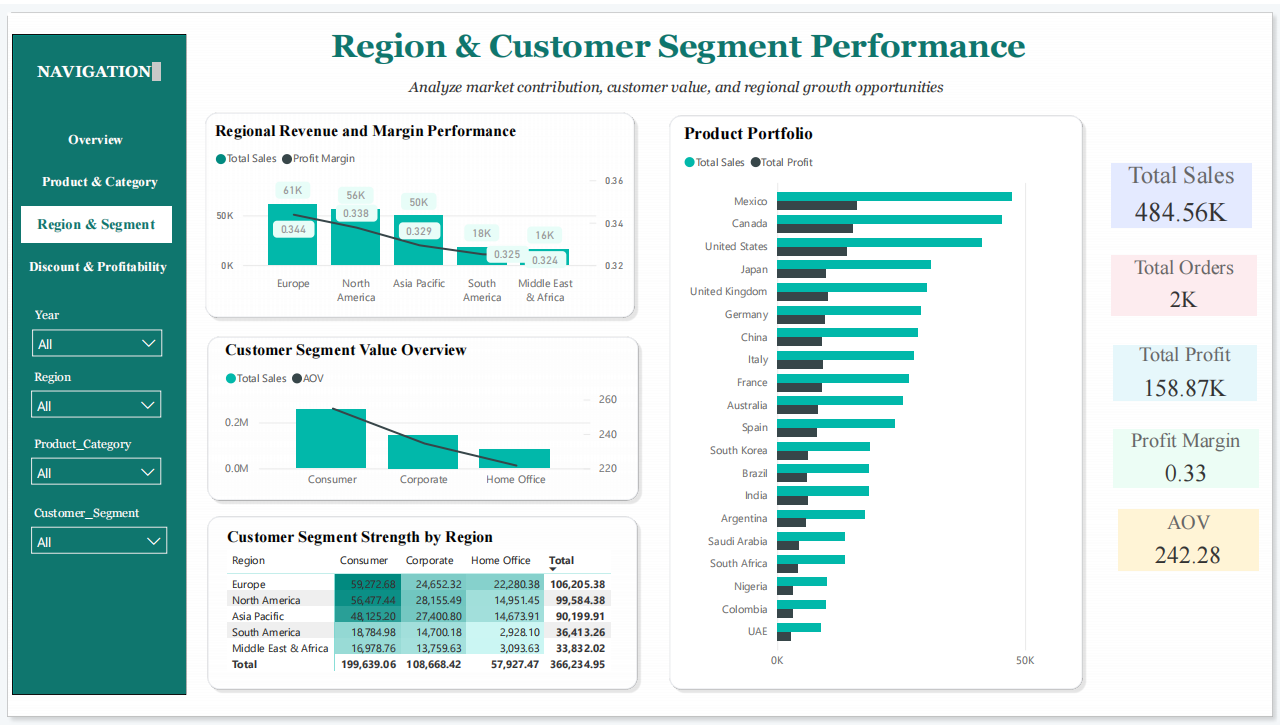

The page's visual inventory and layout, read from the dashboard file:
{"tool":"powerbi","page":{"name":"Region & Segment","canvas":[1280,720],"ordinal":2},"visuals":[{"type":"shape","box":[0,0,1280,720],"z":0},{"type":"shape","box":[13.3,30,173.3,660],"z":1000},{"type":"textbox","box":[32.5,52.5,133.8,28.8],"z":2000},{"type":"actionButton","box":[22.2,117.8,150,35.6],"z":3000},{"type":"actionButton","box":[24,163,154,29],"z":4000},{"type":"actionButton","box":[22.2,202.2,150,35.6],"z":5000},{"type":"actionButton","box":[20.8,245,155.8,35.8],"z":6000},{"type":"slicer","fields":{"Values":["Date Table.Year"]},"box":[23.3,298.9,150,57.8],"z":7000},{"type":"slicer","fields":{"Values":["Sales.Region"]},"box":[22.2,360,150,60],"z":8000},{"type":"slicer","fields":{"Values":["Sales.Product_Category"]},"box":[22.2,426.7,150,58.9],"z":9000},{"type":"slicer","fields":{"Values":["Sales.Customer_Segment"]},"box":[22.2,495.6,155.6,61.1],"z":10000},{"type":"textbox","box":[293.8,0,770,77.5],"z":11000},{"type":"textbox","box":[352,68,650,38],"z":12000},{"type":"cardVisual","fields":{"Data":["Date Table.Total Profit"]},"box":[1107.5,336.2,153.8,65],"z":13000},{"type":"cardVisual","fields":{"Data":["Date Table.Profit Margin"]},"box":[1107.5,420,155,67.5],"z":14000},{"type":"cardVisual","fields":{"Data":["Date Table.Total Orders"]},"box":[1106.2,246.2,155,70],"z":15000},{"type":"group","id":"g1","title":"Group 4","box":[203,327,440,173],"z":16000},{"type":"cardVisual","fields":{"Data":["Date Table.AOV"]},"box":[1112.5,500,150,71.2],"z":17000},{"type":"shape","box":[200,102.9,440,215.9],"z":18000,"group":"g3"},{"type":"shape","box":[663.8,106.2,424,584],"z":18000,"group":"g4"},{"type":"shape","box":[203,327,440.7,174.1],"z":18000,"group":"g1"},{"type":"group","id":"g2","title":"Group 1","box":[203,506,441,184],"z":18000},{"type":"group","id":"g3","title":"Group 3","box":[200,102.9,440,217.1],"z":19000},{"type":"shape","box":[203,506,440.4,184],"z":19000,"group":"g2"},{"type":"lineClusteredColumnComboChart","title":"Regional Revenue and Margin Performance","fields":{"Y":["Date Table.Total Sales"],"Category":["Sales.Region"],"Y2":["Date Table.Profit Margin"]},"box":[211,117.5,418,190.1],"z":20000,"group":"g3"},{"type":"clusteredBarChart","title":"Product Portfolio","fields":{"Category":["Sales.Country"],"Y":["Date Table.Total Sales","Date Table.Total Profit"]},"box":[678.8,120,408.8,552.5],"z":21000,"group":"g4"},{"type":"cardVisual","fields":{"Data":["Date Table.Total Sales"]},"box":[1106.2,153.8,150,73.8],"z":21000},{"type":"pivotTable","title":"Customer Segment Strength by Region","fields":{"Values":["Date Table.Total Sales"],"Rows":["Sales.Region"],"Columns":["Sales.Customer_Segment"]},"box":[222.9,523.2,415,154.4],"z":21000,"group":"g2"},{"type":"group","id":"g4","title":"Group 2","box":[663.8,106.2,424,584],"z":21001},{"type":"lineClusteredColumnComboChart","title":"Customer Segment Value Overview","fields":{"Category":["Sales.Customer_Segment"],"Y":["Date Table.Total Sales"],"Y2":["Date Table.AOV"]},"box":[220.6,336.5,402.7,155.2],"z":22001,"group":"g1"}]}

Visuals, with their boxes in screenshot pixels (x1, y1, x2, y2), scaled from the page's 1280x720 canvas onto the 1282x728 screenshot:
shape: detection(0, 0, 1281, 727)
shape: detection(13, 30, 187, 698)
textbox: detection(33, 53, 167, 82)
actionButton: detection(22, 119, 172, 155)
actionButton: detection(24, 165, 178, 194)
actionButton: detection(22, 204, 172, 240)
actionButton: detection(21, 248, 177, 284)
slicer - Date Table.Year: detection(23, 302, 174, 361)
slicer - Sales.Region: detection(22, 364, 172, 425)
slicer - Sales.Product_Category: detection(22, 431, 172, 491)
slicer - Sales.Customer_Segment: detection(22, 501, 178, 563)
textbox: detection(294, 0, 1065, 78)
textbox: detection(353, 69, 1004, 107)
cardVisual - Date Table.Total Profit: detection(1109, 340, 1263, 406)
cardVisual - Date Table.Profit Margin: detection(1109, 425, 1264, 493)
cardVisual - Date Table.Total Orders: detection(1108, 249, 1263, 320)
"Group 4" group: detection(203, 331, 644, 506)
cardVisual - Date Table.AOV: detection(1114, 506, 1264, 578)
shape: detection(200, 104, 641, 322)
shape: detection(665, 107, 1089, 698)
shape: detection(203, 331, 645, 507)
"Group 1" group: detection(203, 512, 645, 698)
"Group 3" group: detection(200, 104, 641, 324)
shape: detection(203, 512, 644, 698)
"Regional Revenue and Margin Performance" lineClusteredColumnComboChart: detection(211, 119, 630, 311)
"Product Portfolio" clusteredBarChart: detection(680, 121, 1089, 680)
cardVisual - Date Table.Total Sales: detection(1108, 156, 1258, 230)
"Customer Segment Strength by Region" pivotTable: detection(223, 529, 639, 685)
"Group 2" group: detection(665, 107, 1089, 698)
"Customer Segment Value Overview" lineClusteredColumnComboChart: detection(221, 340, 624, 497)
